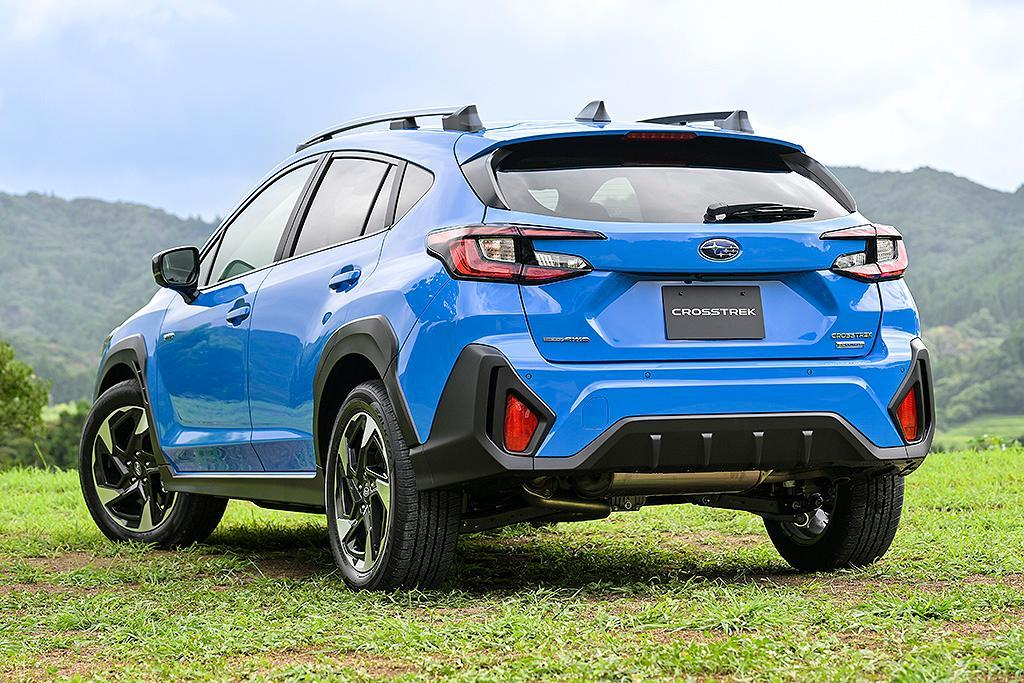subaru: (690, 229, 764, 269)
